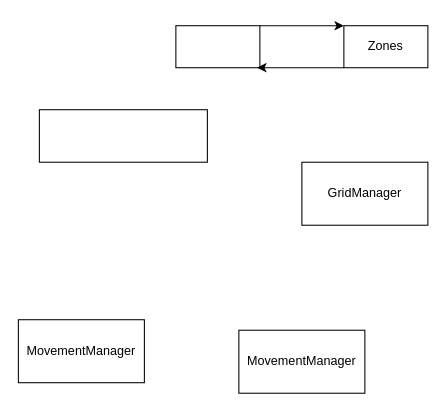
The diagram is 446 pixels wide and 412 high, and some of its shapes have lost their labels. The shapes that lost their labels are listed below. From the top down, each one's box as (x1, y1, x2, y2) in pixels, then its label:
(175, 25, 260, 68): Arena
(38, 109, 207, 162): PathFinder
